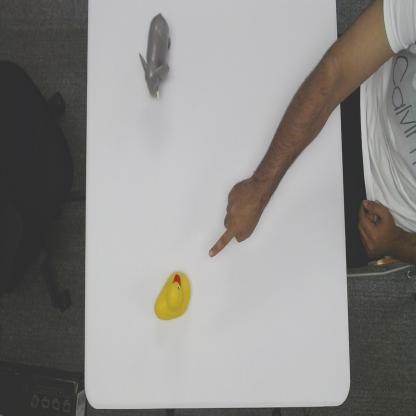Arm: (258, 44, 340, 216)
Duck: (153, 268, 192, 320)
Elephant: (140, 13, 172, 102)
Hand: (209, 181, 264, 262)
